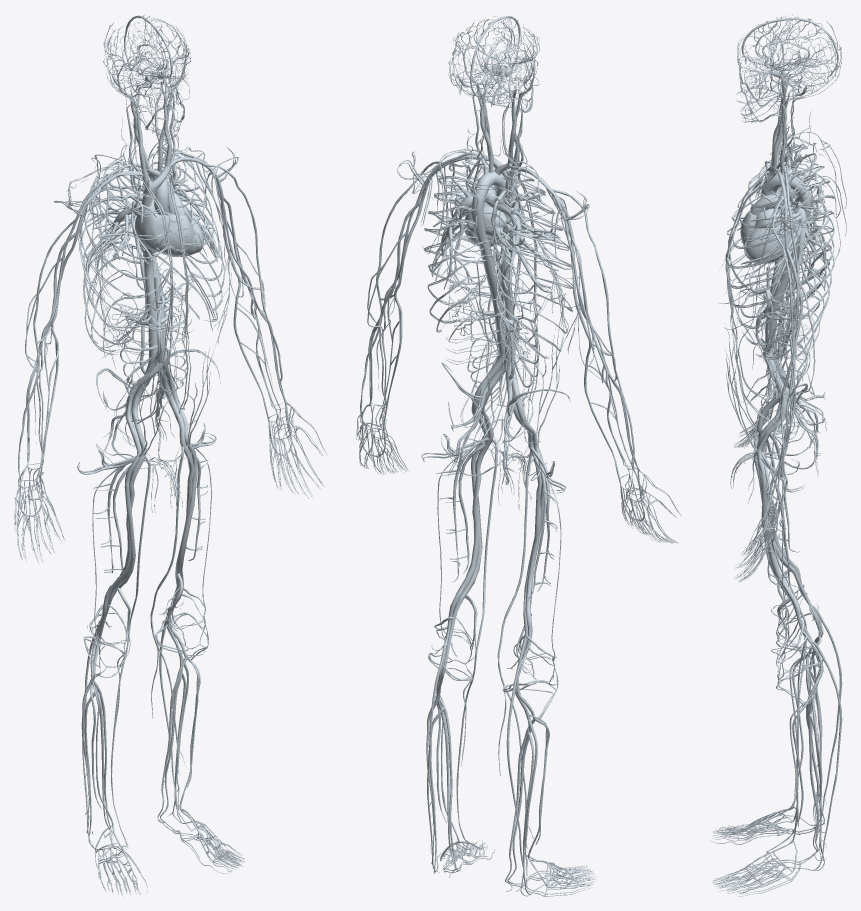
The model's file is cardio.glb.
The picture shows the model from 3 angles, left to right: view 1: azimuth 30°, elevation 25°; view 2: azimuth 150°, elevation 25°; view 3: azimuth 270°, elevation 25°; orthographic projection. The views are drawn at different scales.
Visible parts, largest first — view 1: veines, arteres, coeur, aorte; view 2: arteres, veines, aorte, coeur; view 3: arteres, veines, coeur, aorte.
Boxes of the visible parts, x1,y1,x2,y2 form: veines: (14,15,326,896); arteres: (14,14,327,893); coeur: (133,203,203,256); aorte: (144,187,169,361); arteres: (356,15,681,896); veines: (356,16,679,896); aorte: (471,190,505,356); coeur: (464,201,525,252); arteres: (712,14,846,894); veines: (710,18,842,896); coeur: (740,194,798,263); aorte: (760,189,811,354).
Size of the model in its own units: 0.664 by 1.7 by 0.2488.
